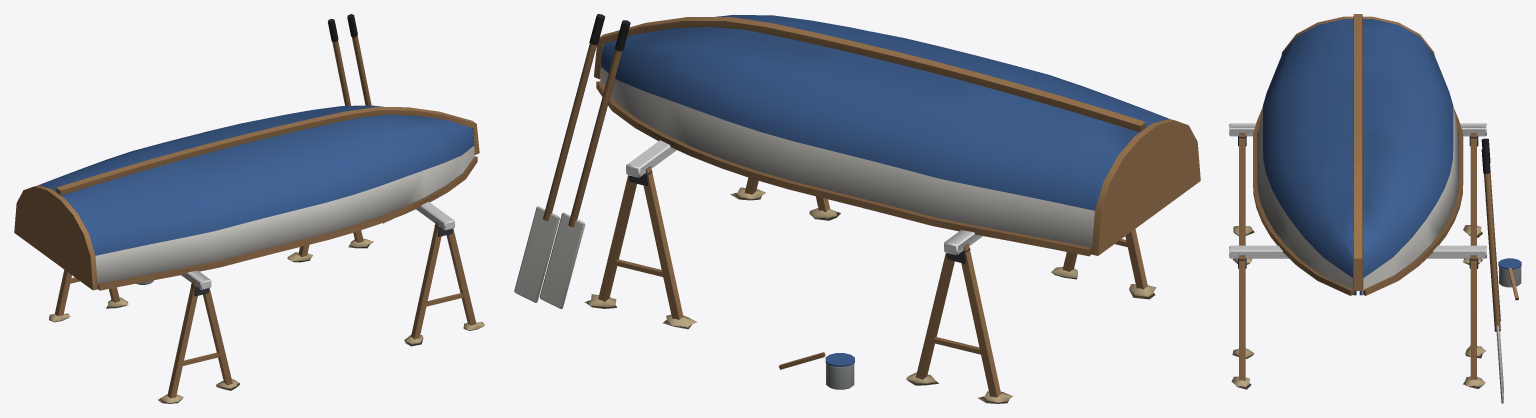
Rendered from BoatTrestles.fbx.
The picture shows the model from 3 angles, left to right: view 1: azimuth 30°, elevation 25°; view 2: azimuth 150°, elevation 25°; view 3: azimuth 270°, elevation 25°; orthographic projection. The views are drawn at different scales.
Parts seen in each view (by area): view 1: BoatTrestles; view 2: BoatTrestles; view 3: BoatTrestles.
Boxes of the visible parts, x1,y1,x2,y2 form: BoatTrestles: (14, 14, 485, 403); BoatTrestles: (514, 14, 1200, 403); BoatTrestles: (1229, 14, 1521, 403).
Size of the model in its own units: 3.48 by 1.78 by 2.02.
